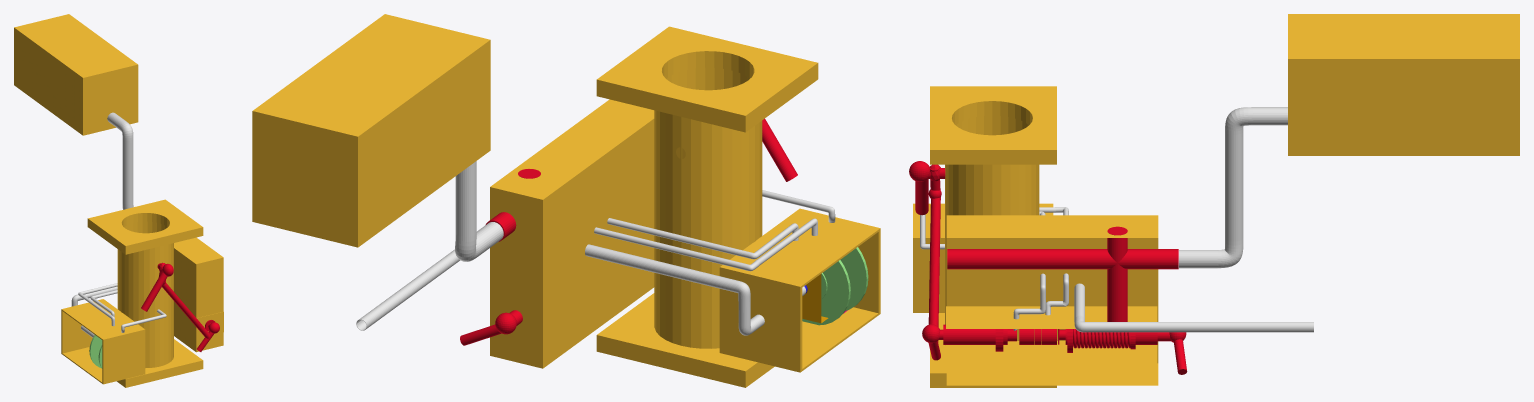
The model's file is Main_model.glb.
The picture shows the model from 3 angles, left to right: view 1: azimuth 30°, elevation 25°; view 2: azimuth 150°, elevation 25°; view 3: azimuth 270°, elevation 25°; orthographic projection. The views are drawn at different scales.
Visible parts, largest first — view 1: tank, body, box2, b2, inlet, b1, connecting_lever, t_lever, air_diaphragm, pipe1, outlet_pipe, l2 (+2 smaller); view 2: tank, body, b2, box2, outlet_pipe, b1, inlet, air_diaphragm, pipe1, pipe3, l1, t_lever (+2 smaller); view 3: tank, b2, body, b1, striver, inlet, outlet_pipe, box2, l1, pipe, l2, connecting_lever (+2 smaller).
Part boxes in pixels (x1=…): tank: x1=14, y1=14, x2=138, y2=135; body: x1=87, y1=199, x2=203, y2=387; box2: x1=61, y1=299, x2=145, y2=384; b2: x1=174, y1=237, x2=223, y2=352; inlet: x1=107, y1=112, x2=133, y2=209; b1: x1=174, y1=302, x2=223, y2=338; connecting_lever: x1=158, y1=262, x2=210, y2=338; t_lever: x1=141, y1=263, x2=173, y2=311; air_diaphragm: x1=89, y1=335, x2=102, y2=368; pipe1: x1=78, y1=283, x2=117, y2=326; outlet_pipe: x1=71, y1=286, x2=117, y2=337; l2: x1=197, y1=320, x2=219, y2=351; tank: x1=252, y1=14, x2=490, y2=247; body: x1=596, y1=26, x2=818, y2=387; b2: x1=490, y1=99, x2=654, y2=368; box2: x1=719, y1=208, x2=880, y2=372; outlet_pipe: x1=356, y1=244, x2=806, y2=335; b1: x1=543, y1=222, x2=654, y2=342; inlet: x1=455, y1=161, x2=503, y2=261; air_diaphragm: x1=802, y1=247, x2=868, y2=325; pipe1: x1=594, y1=218, x2=817, y2=271; pipe3: x1=607, y1=218, x2=798, y2=259; l1: x1=460, y1=310, x2=522, y2=345; t_lever: x1=762, y1=118, x2=797, y2=181; tank: x1=1288, y1=14, x2=1519, y2=155; b2: x1=946, y1=215, x2=1158, y2=385; body: x1=930, y1=86, x2=1056, y2=387; b1: x1=946, y1=306, x2=1157, y2=363; striver: x1=947, y1=249, x2=1178, y2=269; inlet: x1=1179, y1=107, x2=1287, y2=268; outlet_pipe: x1=1074, y1=283, x2=1313, y2=332; box2: x1=913, y1=203, x2=1053, y2=312; l1: x1=1058, y1=329, x2=1187, y2=374; pipe: x1=1107, y1=226, x2=1127, y2=321; l2: x1=922, y1=324, x2=1016, y2=360; connecting_lever: x1=928, y1=164, x2=941, y2=342.
Size of the model in its own units: 8.91 by 11.97 by 18.25.
